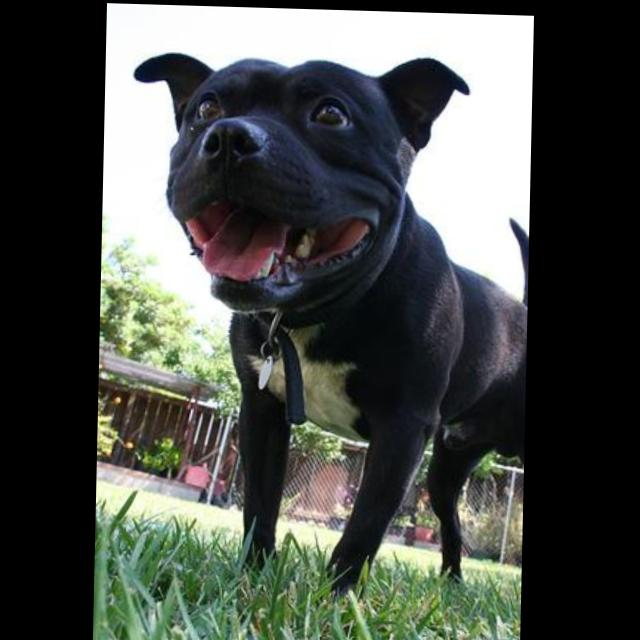amstaff: (123, 48, 534, 612)
